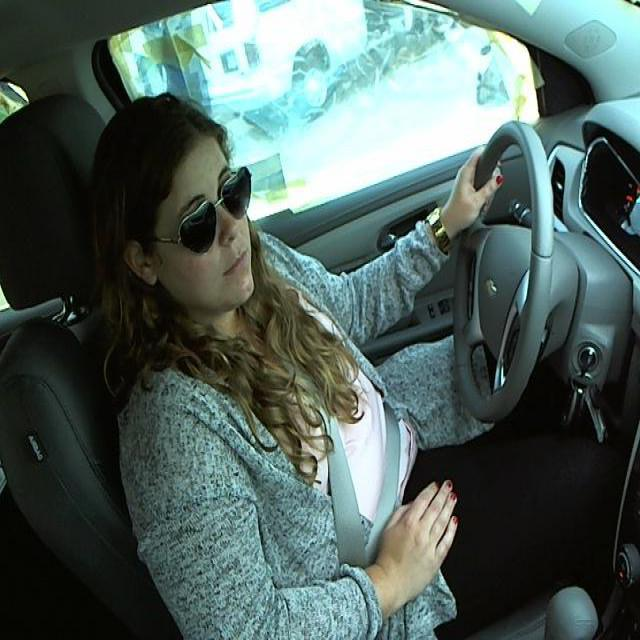seatbelt: (279, 367, 421, 570)
